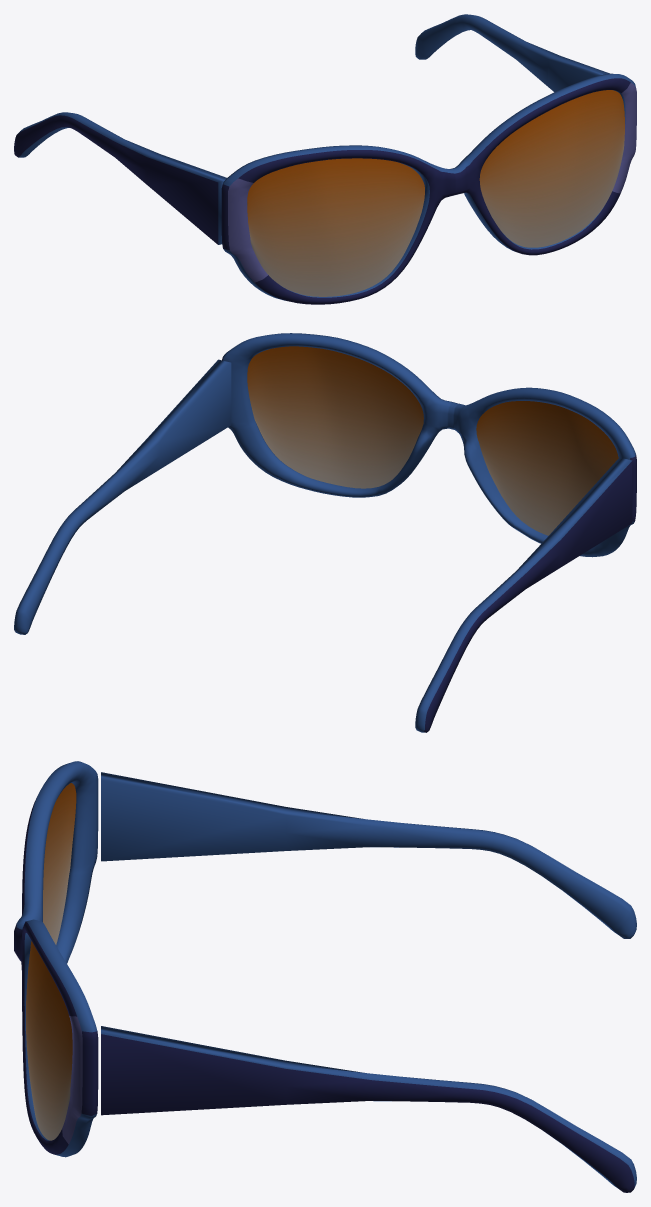
The model's file is purpleglasses.obj.
3 views of the same model, one above another, from view 1: azimuth 30°, elevation 25°; view 2: azimuth 150°, elevation 25°; view 3: azimuth 270°, elevation 25° (orthographic). The views are drawn at different scales.
Bounding box in the file's own units: 38.98 × 13.99 × 39.16.
Materials: 4 (1 with a texture image).
